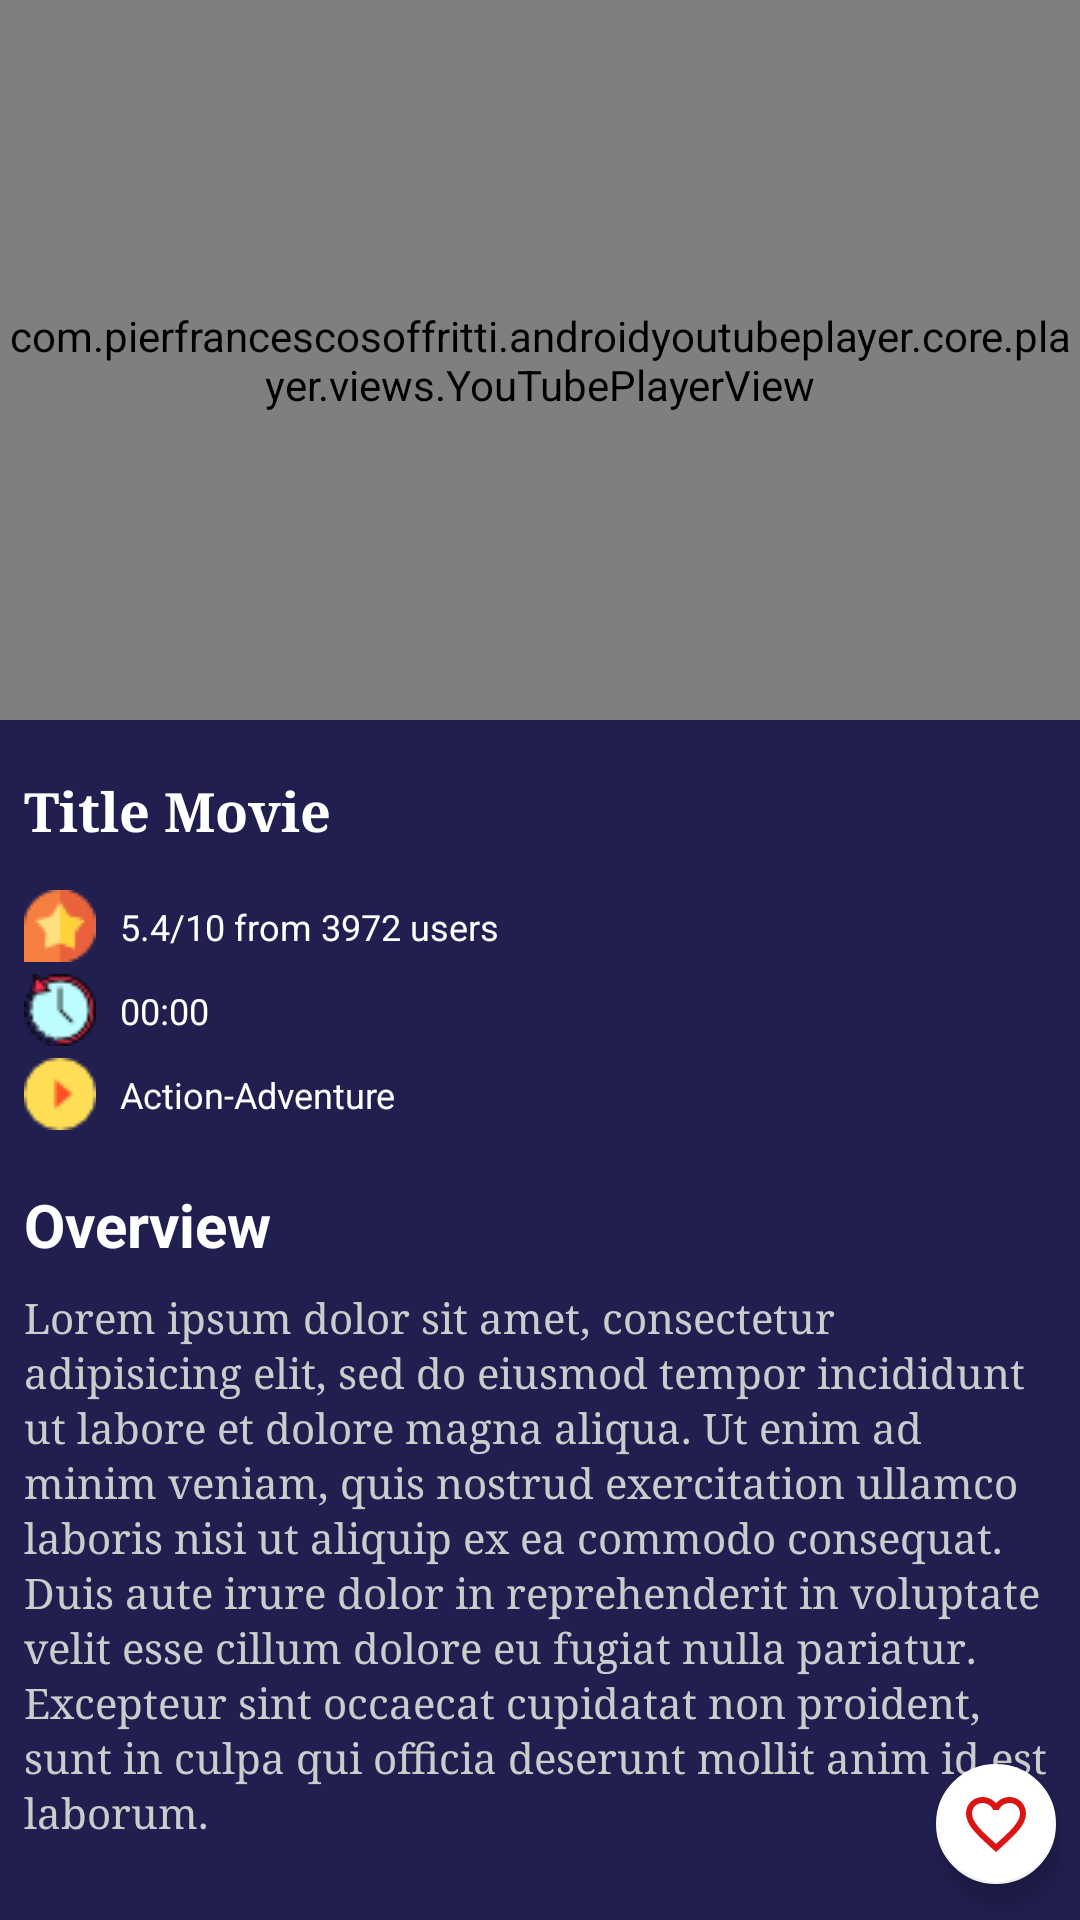

Screen size 1080w x 1920h. Icon name, then its box in pixels as (x1, y1, x2, y2):
clock: (24, 974, 96, 1046)
favorite border: (936, 1764, 1056, 1884)
play: (24, 1058, 96, 1130)
